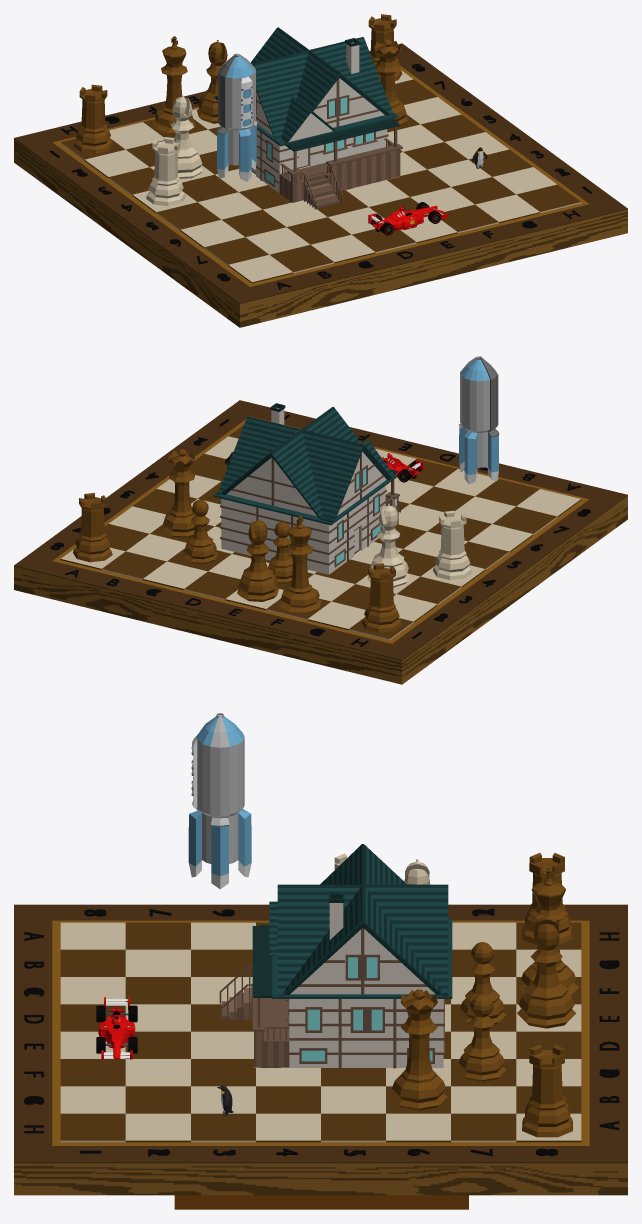
The picture shows the model from 3 angles, top to bottom: view 1: azimuth 30°, elevation 25°; view 2: azimuth 150°, elevation 25°; view 3: azimuth 270°, elevation 25°; orthographic projection. The views are drawn at different scales.
Parts seen in each view (by area): view 1: Cube.002, Cube.793, OBJRANDOM_ROCKETSHIP, VEHICLES_FORMULA_1; view 2: Cube.002, Cube.793, OBJRANDOM_ROCKETSHIP, VEHICLES_FORMULA_1; view 3: Cube.002, Cube.793, OBJRANDOM_ROCKETSHIP, UNDERGROUND_ART_PIECE_VAN_GOGH, VEHICLES_FORMULA_1.
Boxes of the visible parts, <box> form: Cube.002: <box>14,14,627,327</box>; Cube.793: <box>214,27,402,209</box>; OBJRANDOM_ROCKETSHIP: <box>216,53,257,181</box>; VEHICLES_FORMULA_1: <box>368,202,448,235</box>; Cube.002: <box>14,400,627,684</box>; Cube.793: <box>213,403,401,574</box>; OBJRANDOM_ROCKETSHIP: <box>459,356,499,484</box>; VEHICLES_FORMULA_1: <box>382,453,423,482</box>; Cube.002: <box>14,853,627,1195</box>; Cube.793: <box>219,844,452,1068</box>; OBJRANDOM_ROCKETSHIP: <box>188,713,251,889</box>; UNDERGROUND_ART_PIECE_VAN_GOGH: <box>174,1195,468,1209</box>; VEHICLES_FORMULA_1: <box>96,997,137,1059</box>.
Bounding box in the file's own units: 3981 × 2162 × 4012.
Materials: 33 (4 with a texture image).
